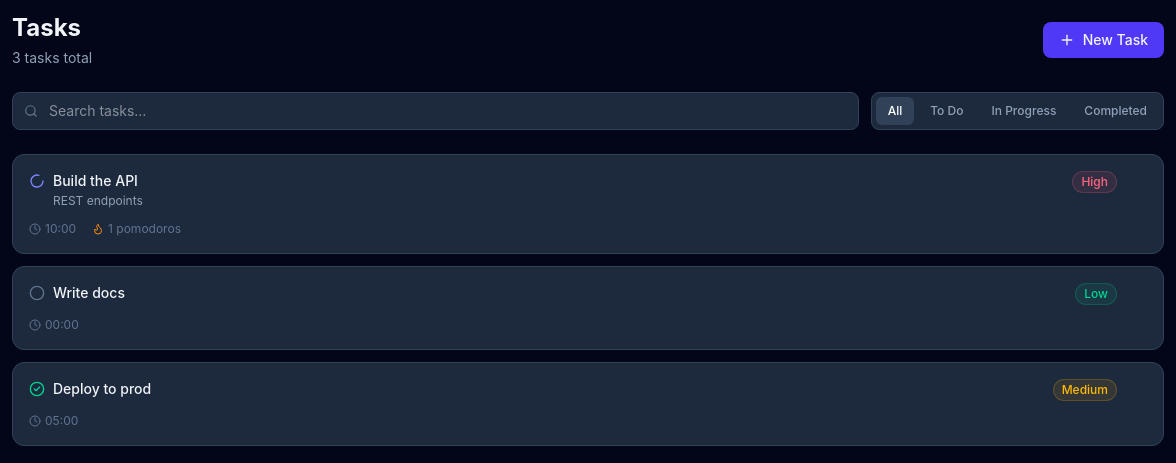
Test case: TasksPage › filters by status tab: In Progress
The width and height of the screenshot is (1176, 463).
Click the button "In Progress" at (1024, 111), box [980, 97, 1068, 125]
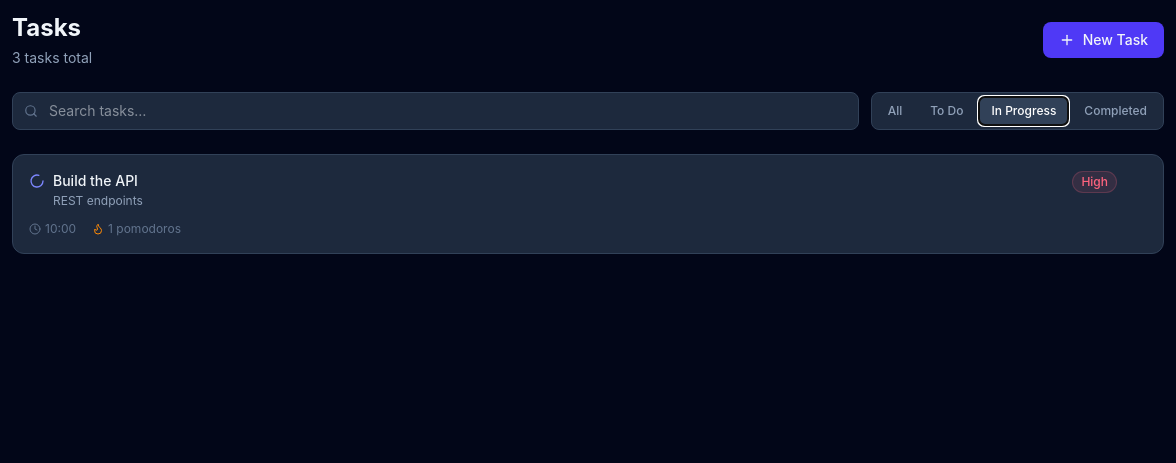
Check: the link "Build the API" is shown, box [53, 171, 143, 191]
Check: the link "Write docs" is gone
